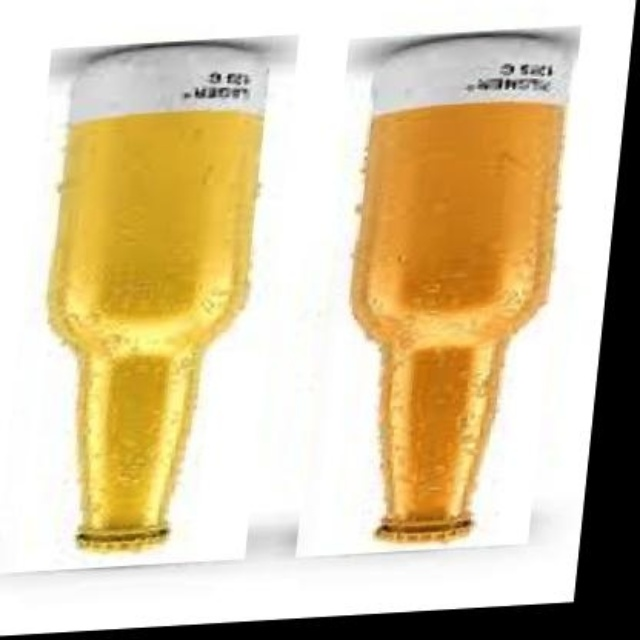trash: (303, 32, 575, 552), (48, 43, 266, 549)
